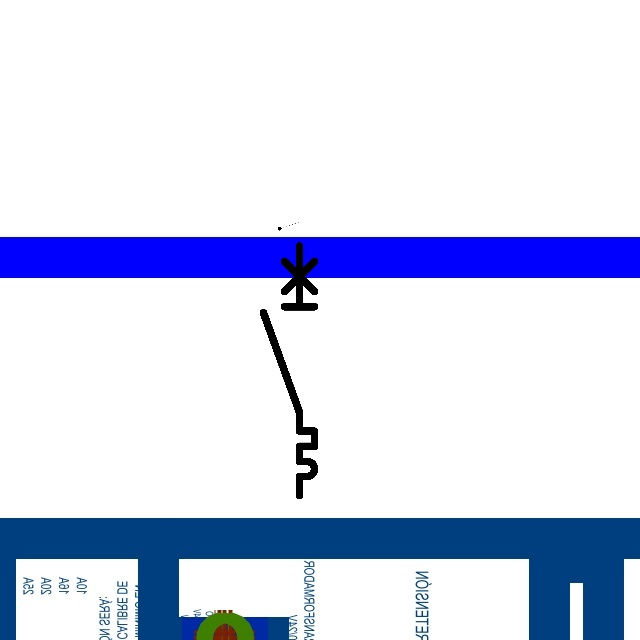interruptor_termomagnetico: (257, 239, 321, 501)
